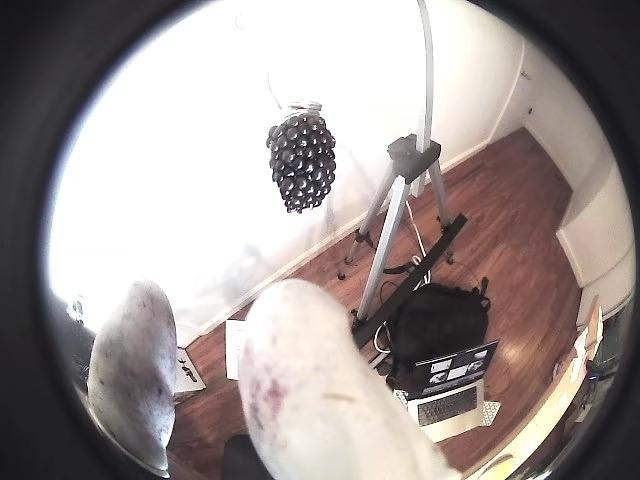berry: (266, 103, 335, 212)
gripper: (238, 278, 460, 479), (86, 279, 178, 477)
lense: (0, 0, 211, 479), (471, 0, 639, 479)
